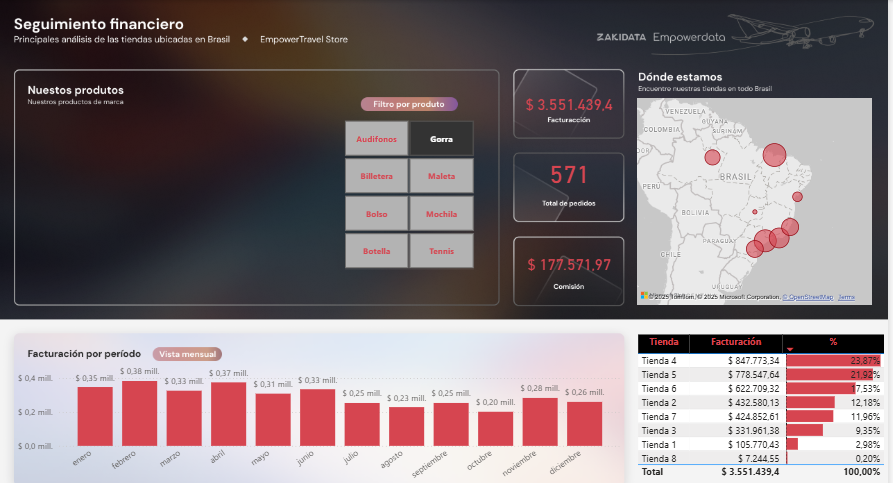

The page's visual inventory and layout, read from the dashboard file:
{"tool":"powerbi","page":{"name":"Página 1","canvas":[1280,720],"ordinal":0},"visuals":[{"type":"card","fields":{"Values":["RegistroVentas.Total_facturado"]},"box":[740.2,118.1,158.4,64.8],"z":0},{"type":"card","fields":{"Values":["CountNonNull(RegistroVentas.ID)"]},"box":[740.2,216,158.4,64.8],"z":1000},{"type":"card","fields":{"Values":["RegistroVentas.Comision"]},"box":[740.2,348.5,158.4,64.8],"z":2000},{"type":"clusteredColumnChart","fields":{"Category":["RegistroVentas.Fecha_ Pedido.Variación.Jerarquía de fechas.Mes"],"Y":["RegistroVentas.Total_facturado"]},"box":[20.2,514.1,878.4,193],"z":3000},{"type":"slicer","fields":{"Values":["Productos.descripción_producto"]},"box":[470.9,167,234.7,226.1],"z":4000},{"type":"tableEx","fields":{"Values":["Tiendas.nombre_Tienda","RegistroVentas.Total_facturado","Divide(RegistroVentas.Total_facturado, ScopedEval(RegistroVentas.Total_facturado, []))"]},"box":[913,476.6,367.2,220.3],"z":5000},{"type":"map","fields":{"Category":["Tiendas.Ciudad"],"Size":["RegistroVentas.Total_facturado"]},"box":[913,136.8,348.5,308.2],"z":6000}]}

Visuals, with their boxes in screenshot pixels (x1, y1, x2, y2):
card - RegistroVentas.Total_facturado: x1=525, y1=57, x2=630, y2=100
card - CountNonNull(RegistroVentas.ID): x1=525, y1=122, x2=630, y2=165
card - RegistroVentas.Comision: x1=525, y1=210, x2=630, y2=253
clusteredColumnChart - RegistroVentas.Fecha_ Pedido.Variación.Jerarquía de fechas.Mes x RegistroVentas.Total_facturado: x1=48, y1=320, x2=630, y2=448
slicer - Productos.descripción_producto: x1=347, y1=90, x2=502, y2=240
tableEx - Tiendas.nombre_Tienda x RegistroVentas.Total_facturado: x1=640, y1=295, x2=883, y2=441
map - Tiendas.Ciudad x RegistroVentas.Total_facturado: x1=640, y1=70, x2=871, y2=274
